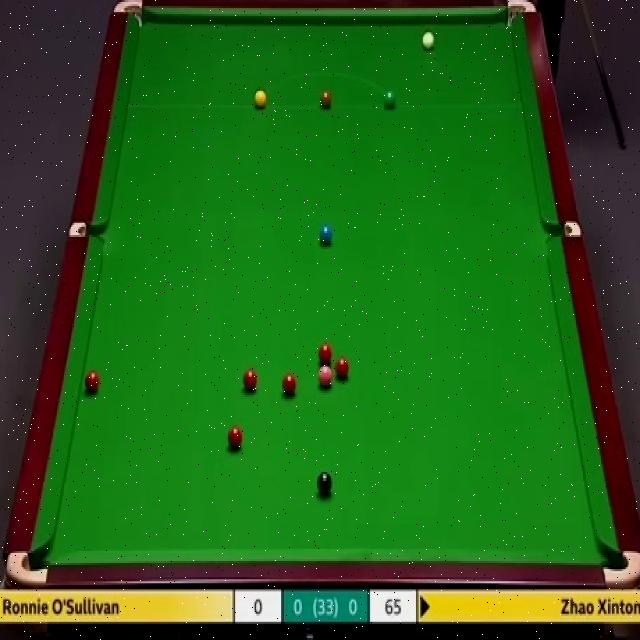black-ball: (316, 470, 333, 495)
blue-ball: (318, 223, 331, 246)
brown-ball: (319, 90, 332, 108)
green-ball: (383, 89, 396, 108)
pink-ball: (318, 364, 333, 386)
red-ball: (228, 424, 242, 452), (85, 369, 100, 394), (242, 370, 259, 391), (282, 373, 296, 398), (335, 356, 349, 379), (319, 344, 332, 362)
white-ball: (422, 32, 436, 47)
yellow-ball: (252, 90, 267, 110)
